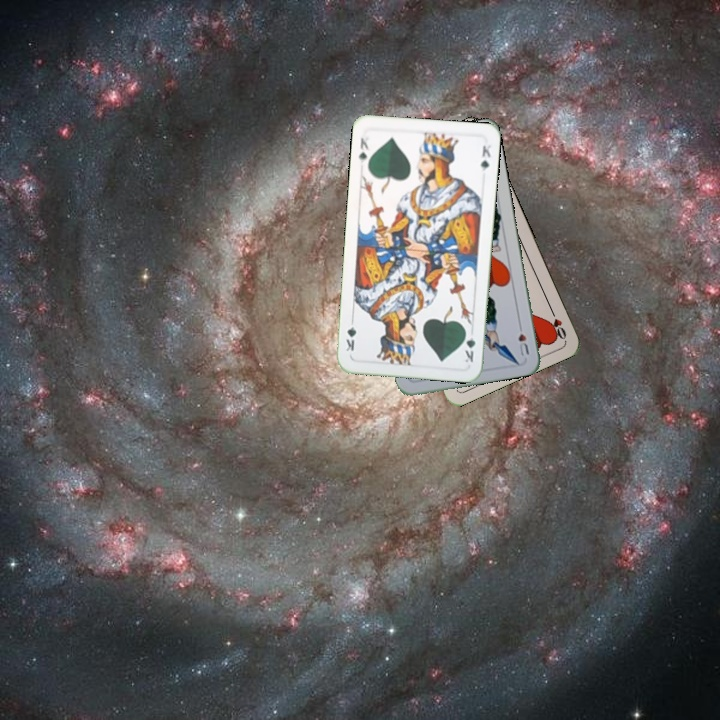GK: (461, 325, 478, 365), (355, 134, 372, 166)
HO: (546, 303, 569, 342)
HU: (514, 319, 531, 359)
